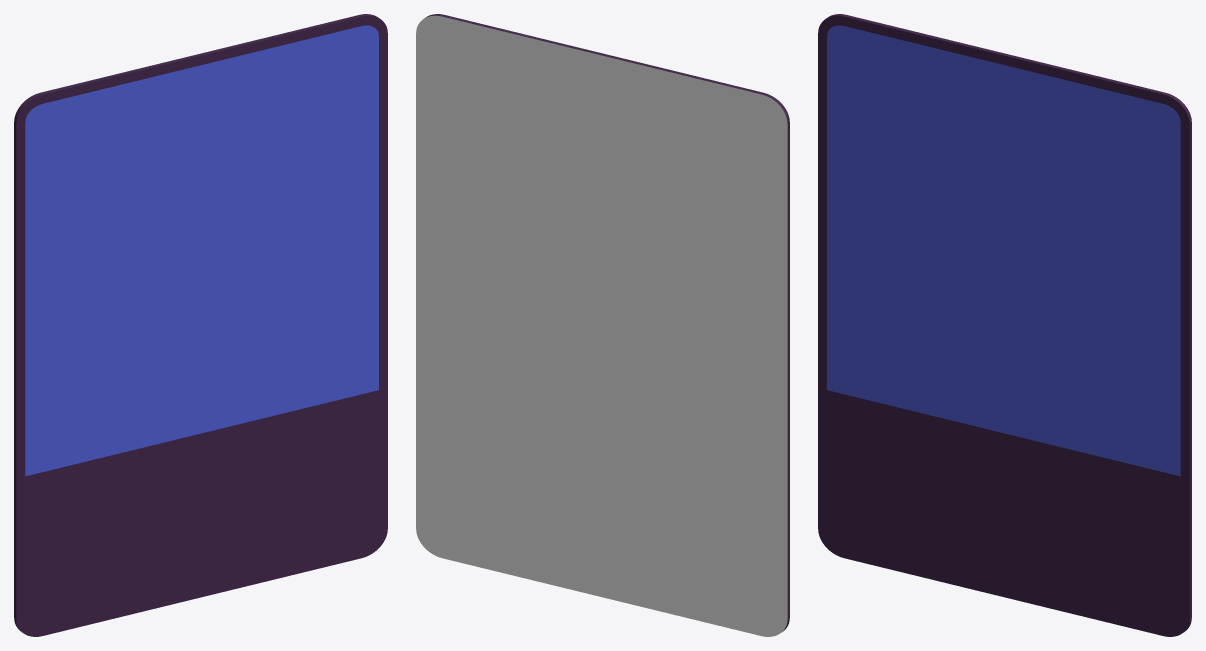
Rendered from card.glb.
3 views of the same model, side by side, from view 1: azimuth 30°, elevation 25°; view 2: azimuth 150°, elevation 25°; view 3: azimuth 330°, elevation 25° (orthographic).
Visible parts, largest first — view 1: Card; view 2: Card; view 3: Card.
Part boxes in pixels (left/top/right/bottom): Card: left=14, top=14, right=387, bottom=636; Card: left=416, top=14, right=789, bottom=636; Card: left=818, top=14, right=1191, bottom=636.
Bounding box in the file's own units: 1 × 1.39 × 0.0109.
